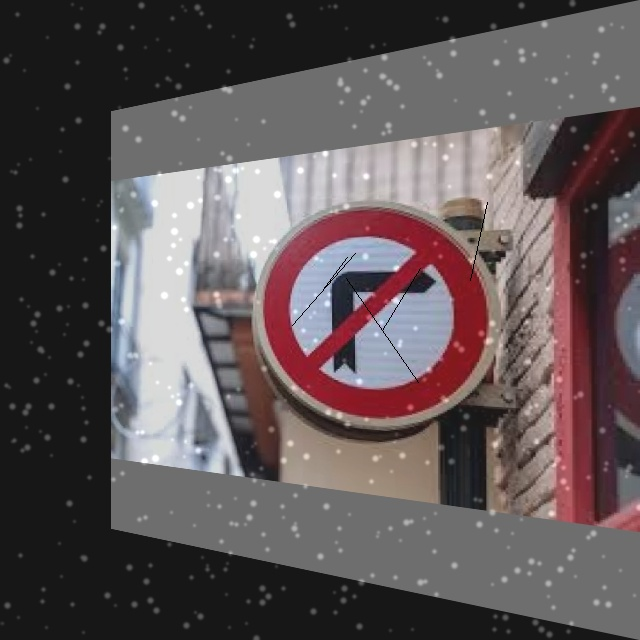Right_Turn_Prohibited: (256, 190, 493, 451)
